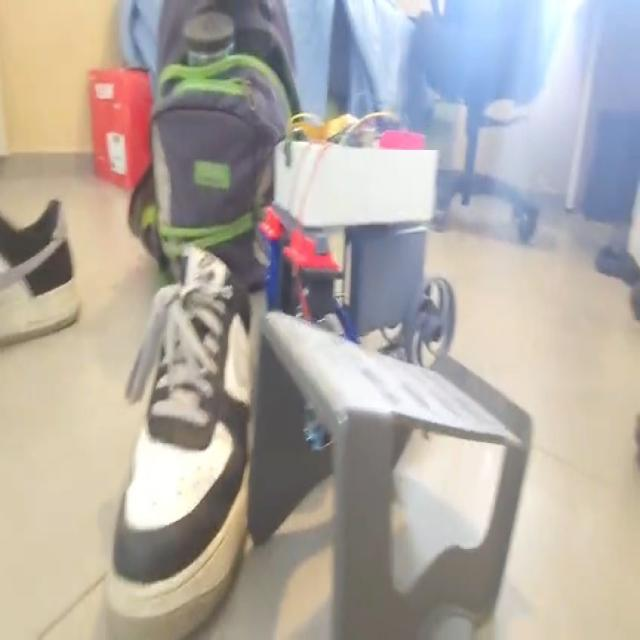Robot: (253, 124, 456, 370)
